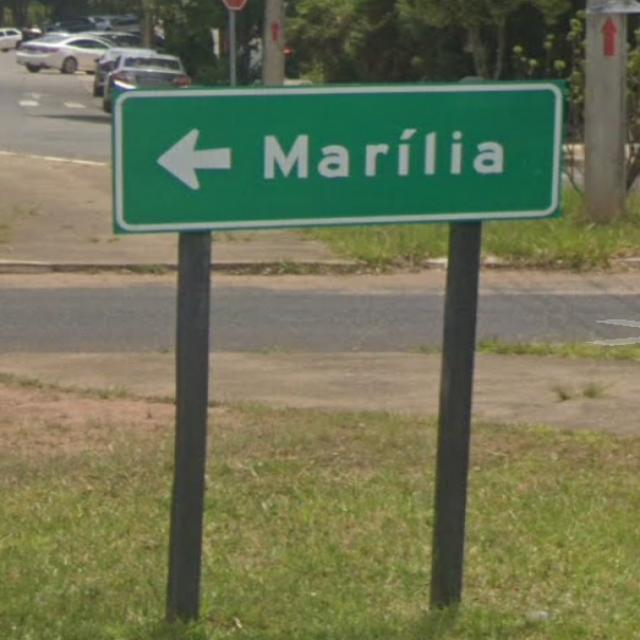indication: (99, 68, 572, 247)
